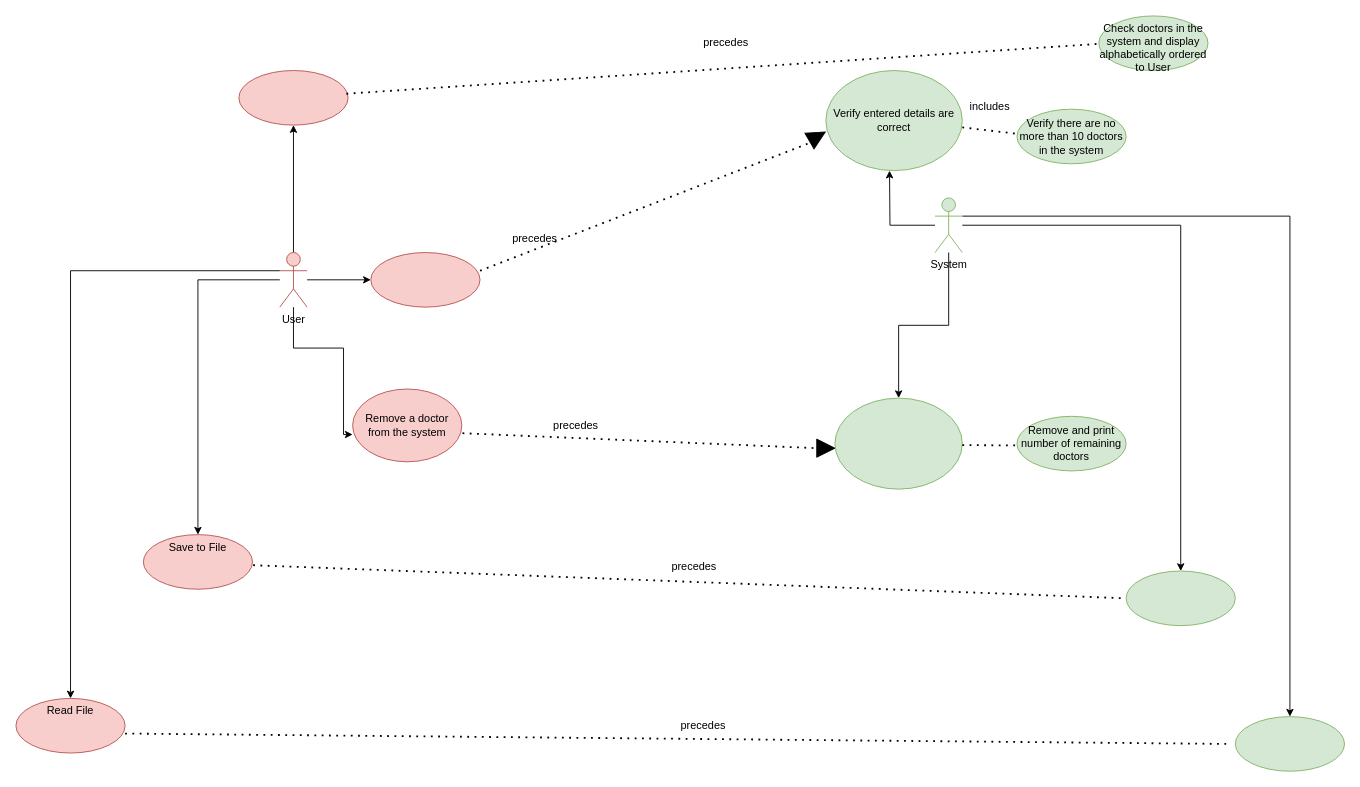
The diagram is 1360 pixels wide and 787 high, and some of its shapes have lost their labels. Each missing label, with the centre of its shape:
"Add a new doctor to the system" belongs at (425,279).
"Create/update doctors.txt file with new information" belongs at (1180,598).
"Print doctors in the system" belongs at (293,97).
"Read doctors.txt and update doctors list" belongs at (1289,743).
"Verify medical number exists as a doctor" belongs at (898,443).
